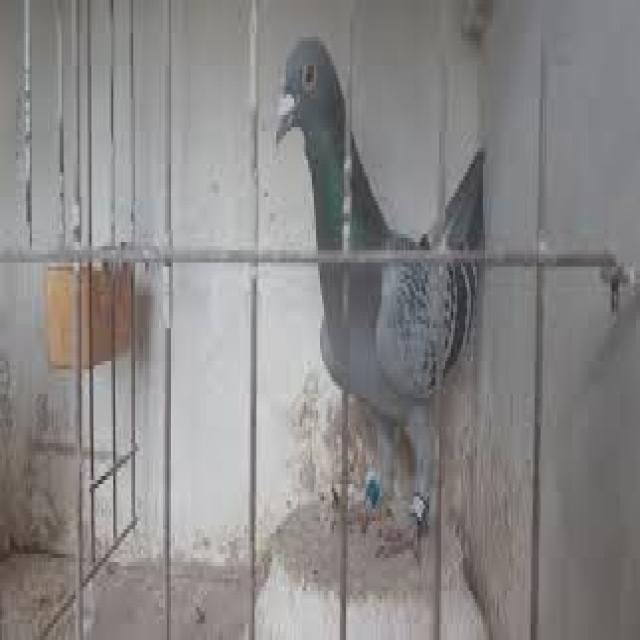pigeon: (264, 28, 508, 522)
